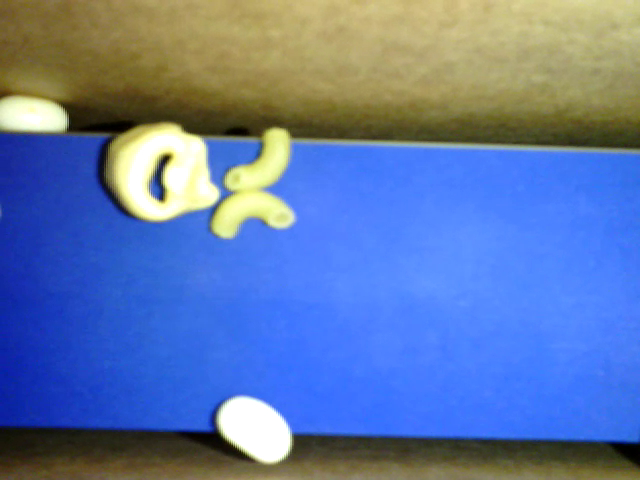elbow: (209, 189, 297, 240), (225, 128, 292, 194)
tortellini: (100, 120, 219, 223)
